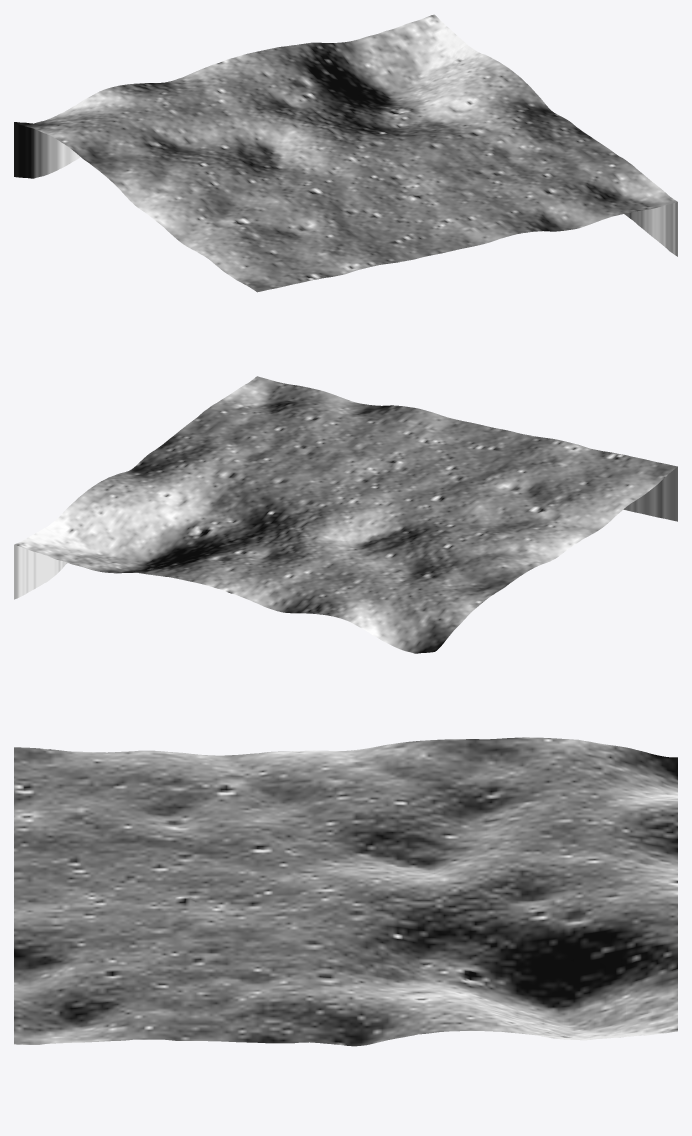
3 views of the same model, one above another, from view 1: azimuth 30°, elevation 25°; view 2: azimuth 150°, elevation 25°; view 3: azimuth 270°, elevation 25° (orthographic). The views are drawn at different scales.
Size of the model in its own units: 639 by 112 by 639.
Materials: 1 (1 with a texture image).
